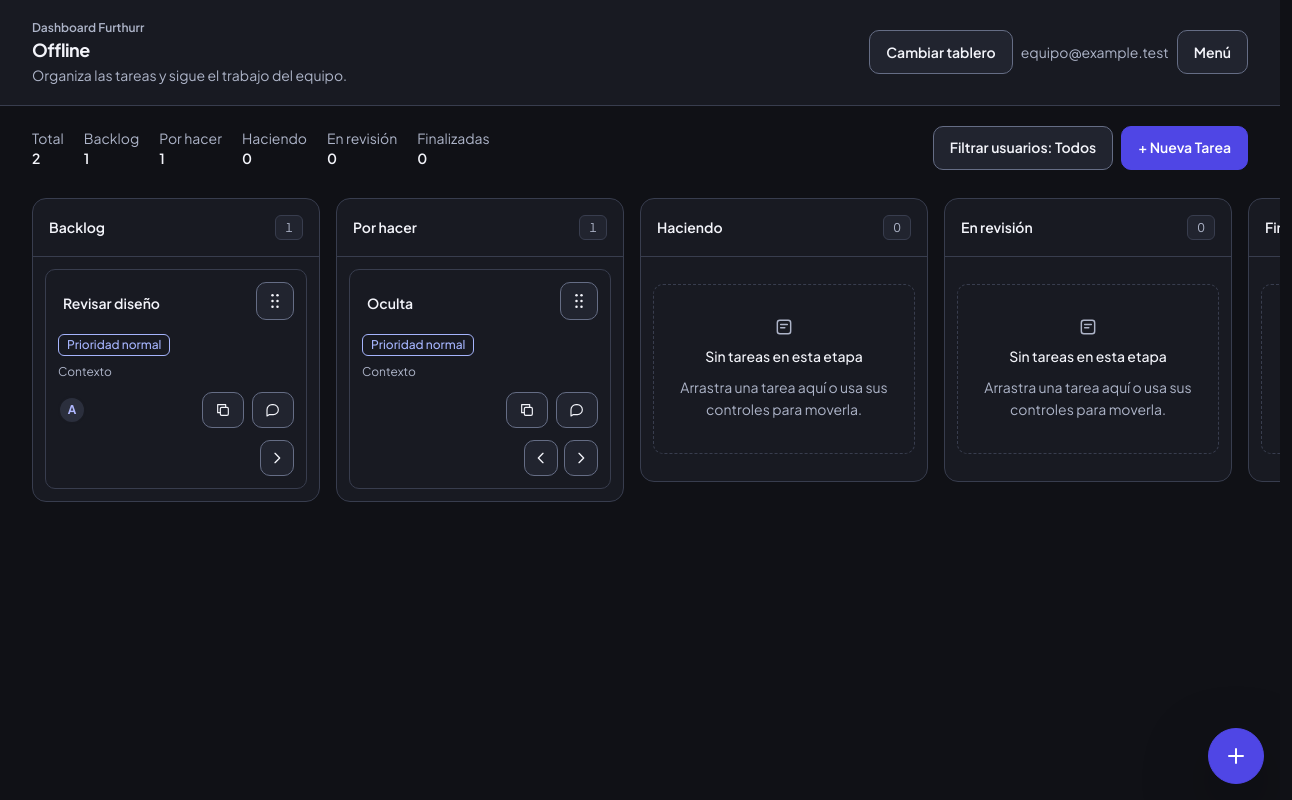
Test: Integración del tablero › calcula movimientos con las tareas ocultas y las conserva durante la actualización optimista
Click the heading "Filtrar usuarios: Todos": (1023, 148) [933, 126, 1113, 170]
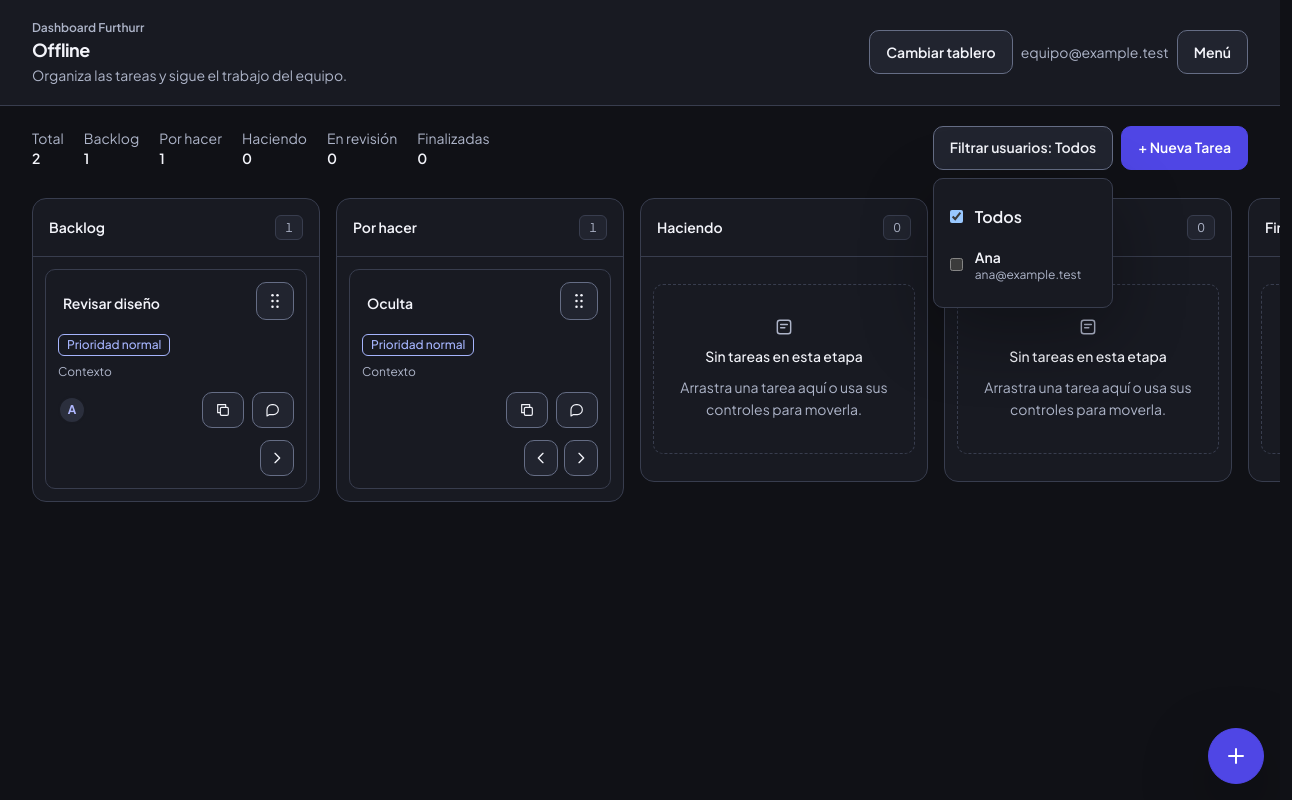
Click the checkbox labelled "Ana ana@example.test": (956, 265) [950, 258, 963, 271]
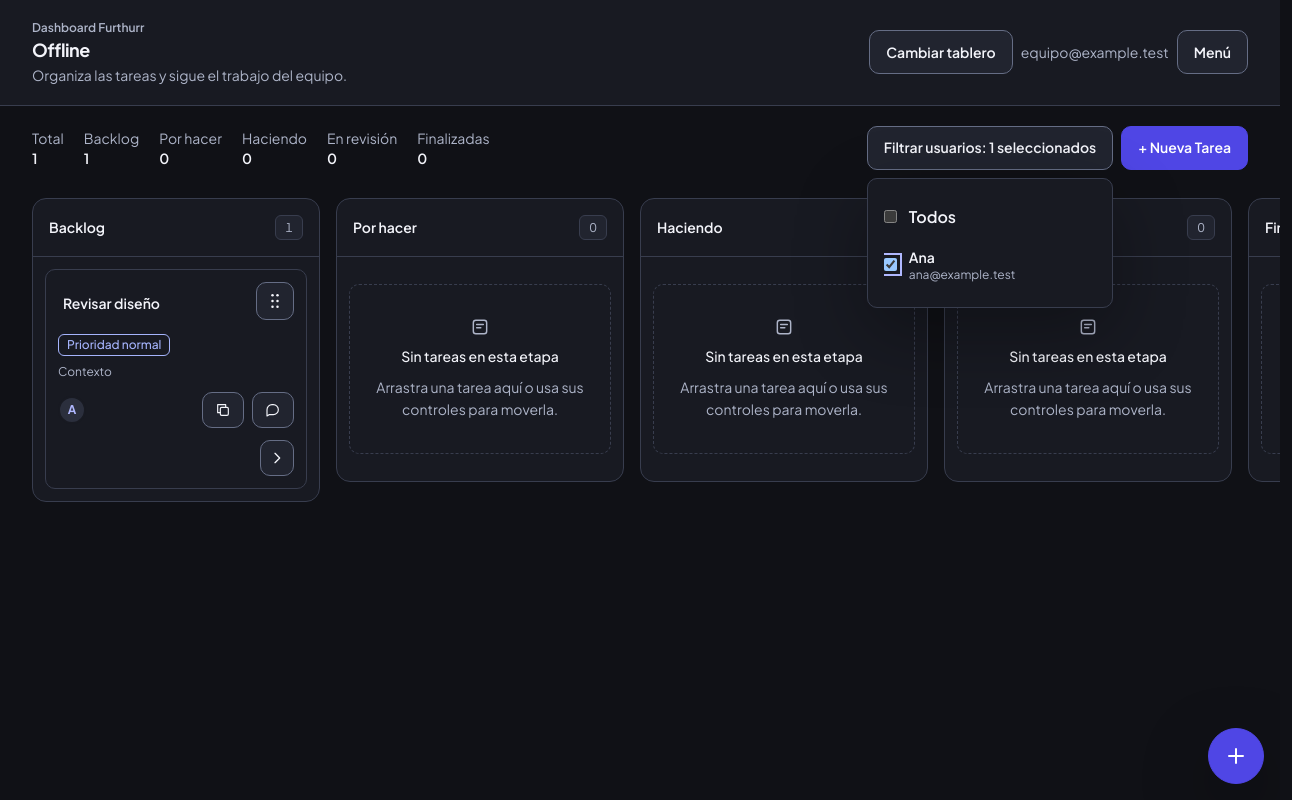
Click the button named "Mover a la lista siguiente": (277, 458) [260, 440, 294, 476]
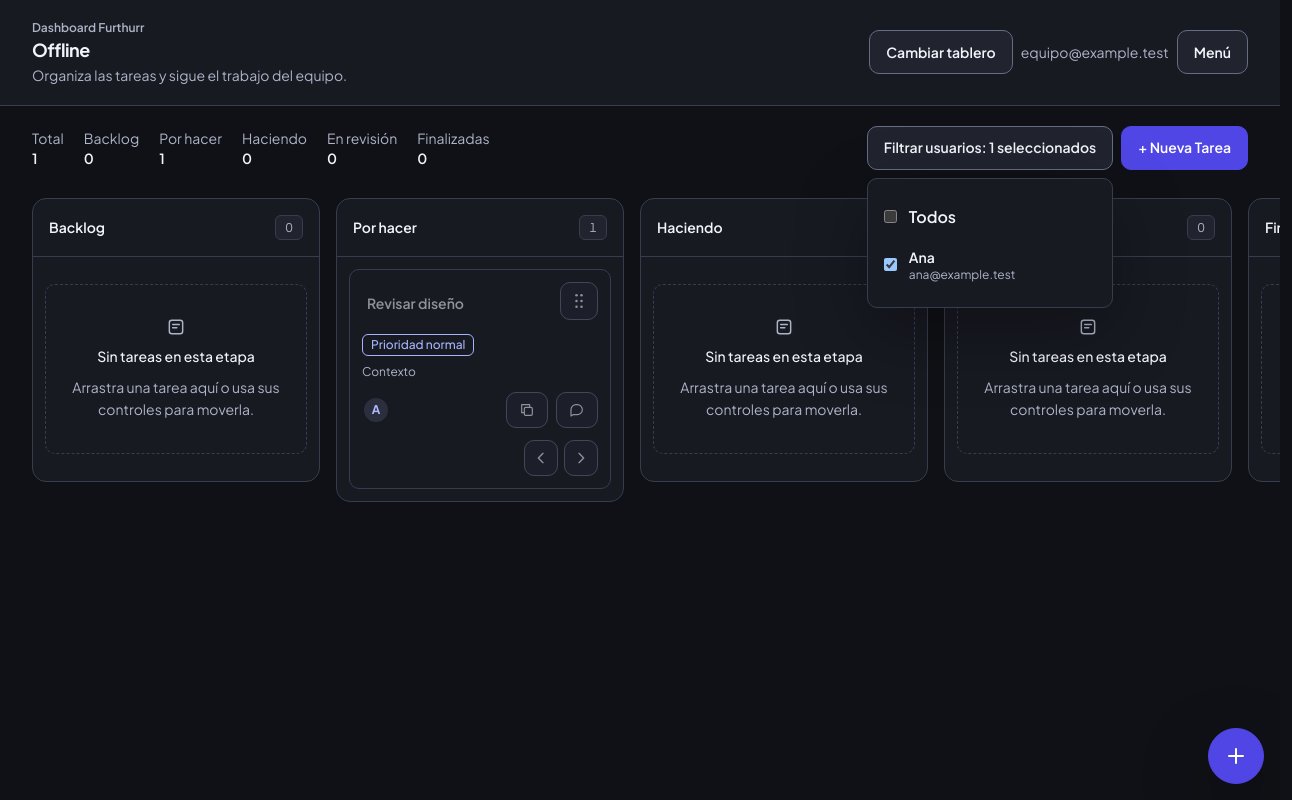
Click the checkbox labelled "Todos": (890, 217) [884, 210, 897, 223]
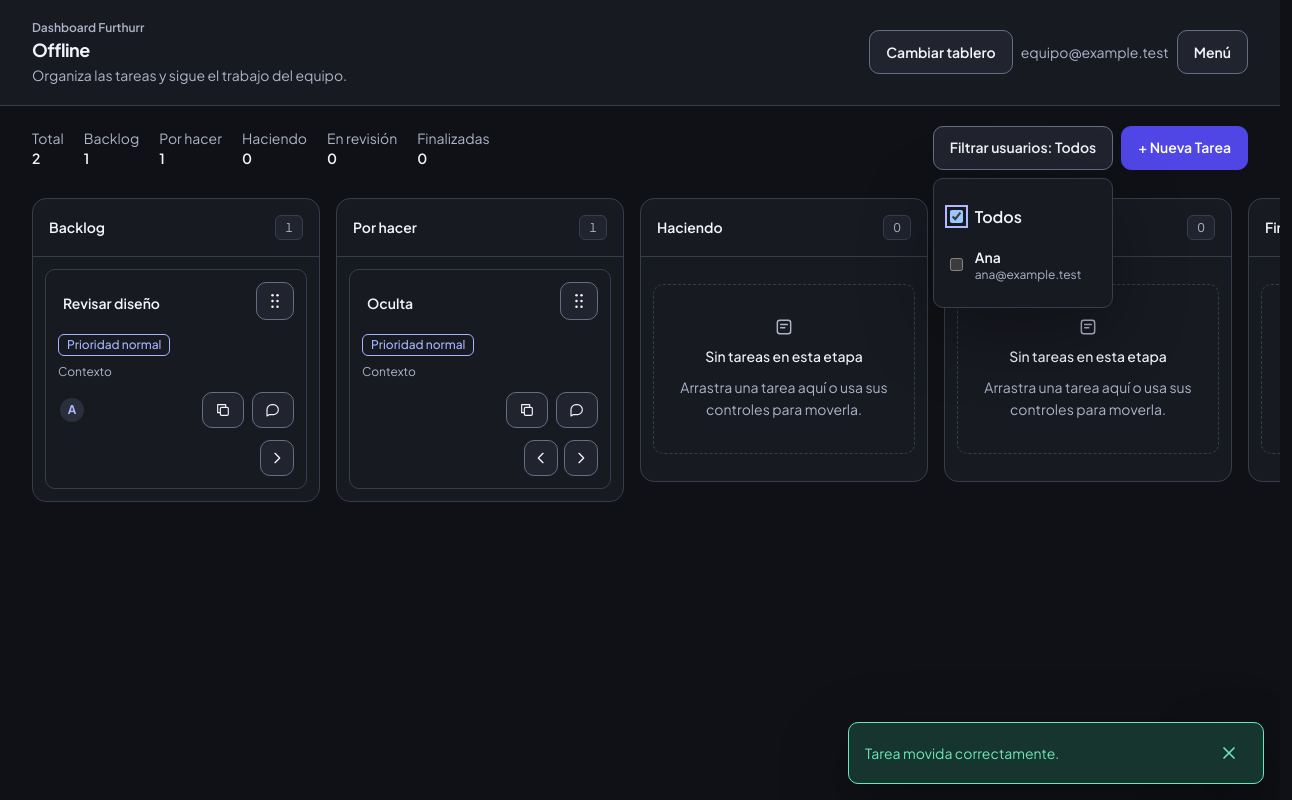
Expected: the button with aria-label "Abrir tarea: Oculta" is shown, [362, 282, 552, 326]
